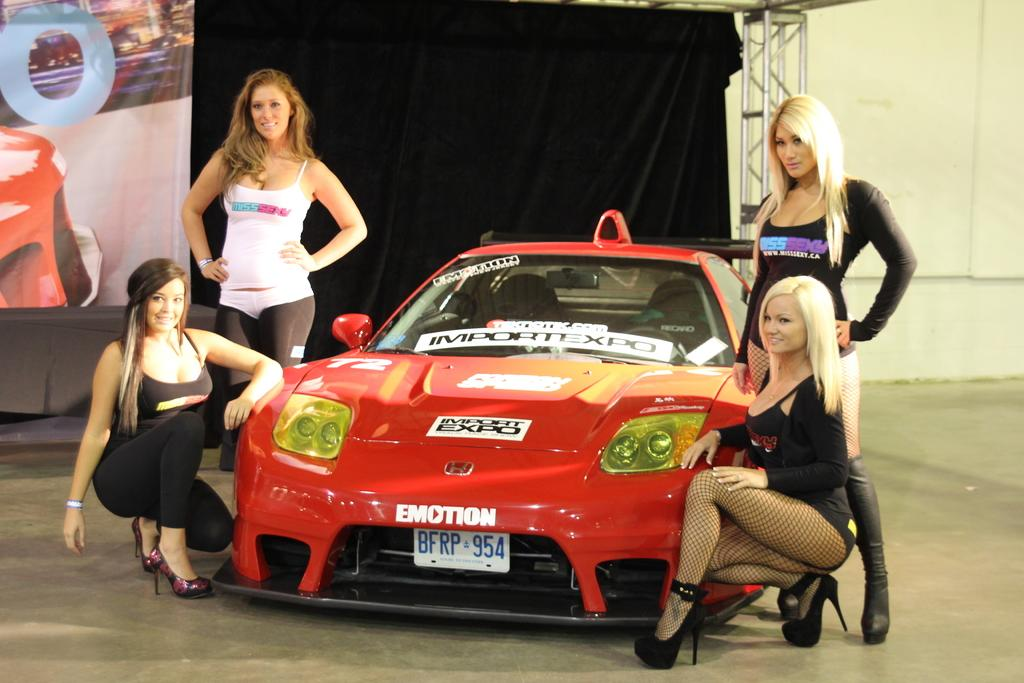Car: (217, 218, 867, 641)
